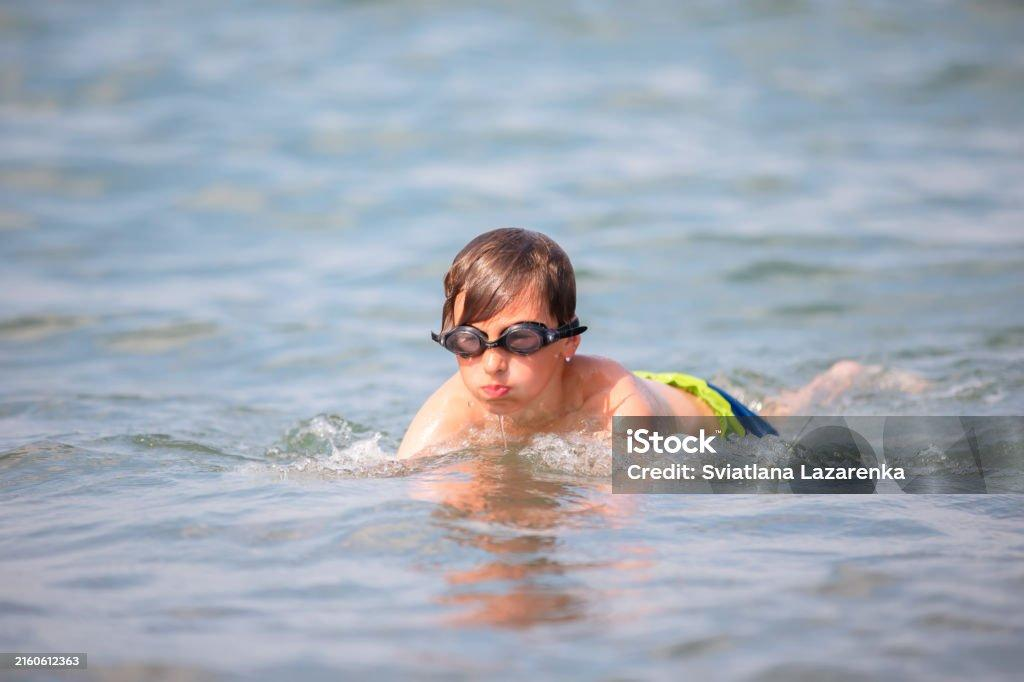Swimming: (221, 209, 926, 508)
